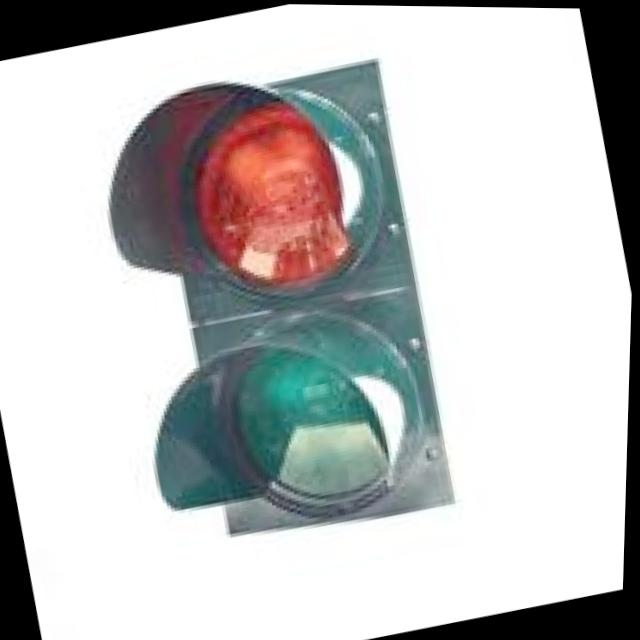red_light: (84, 45, 410, 360)
